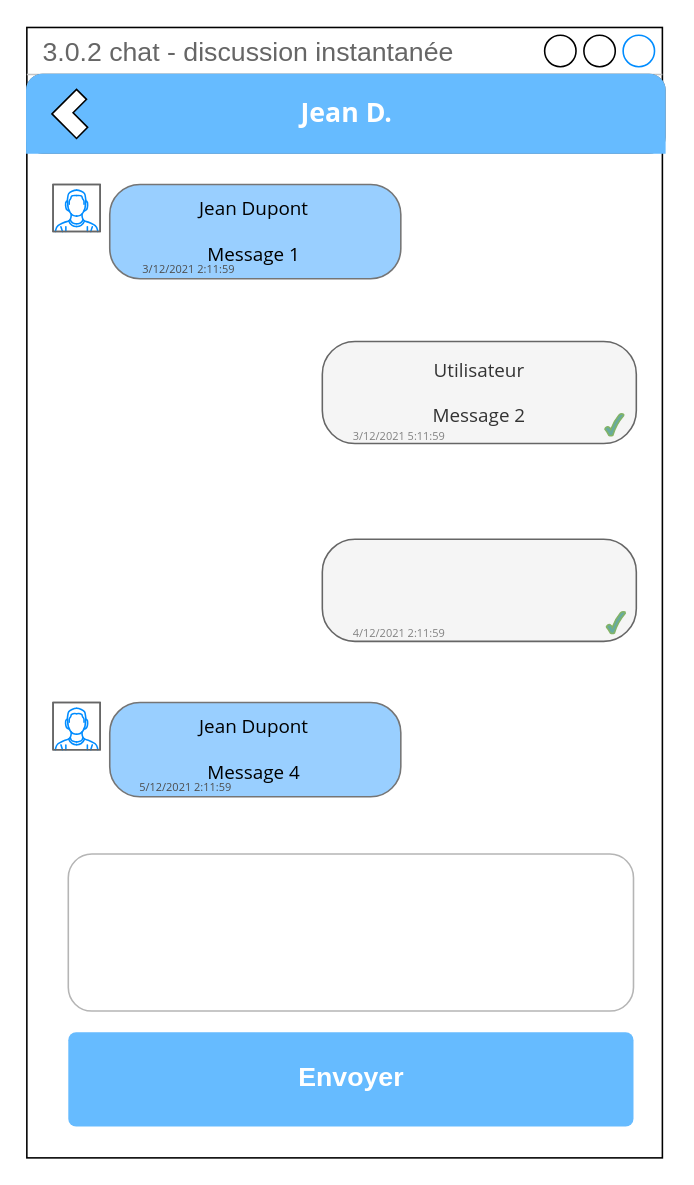
Some shapes in this 694 by 1185 pixel diagram are drawn without their labels. The box of each missing label's shape, as (x1, y1, x2, y2) in pixels:
Utilisateur Message 3: (321, 538, 636, 641)
Votre texte ici: (67, 853, 633, 1011)
